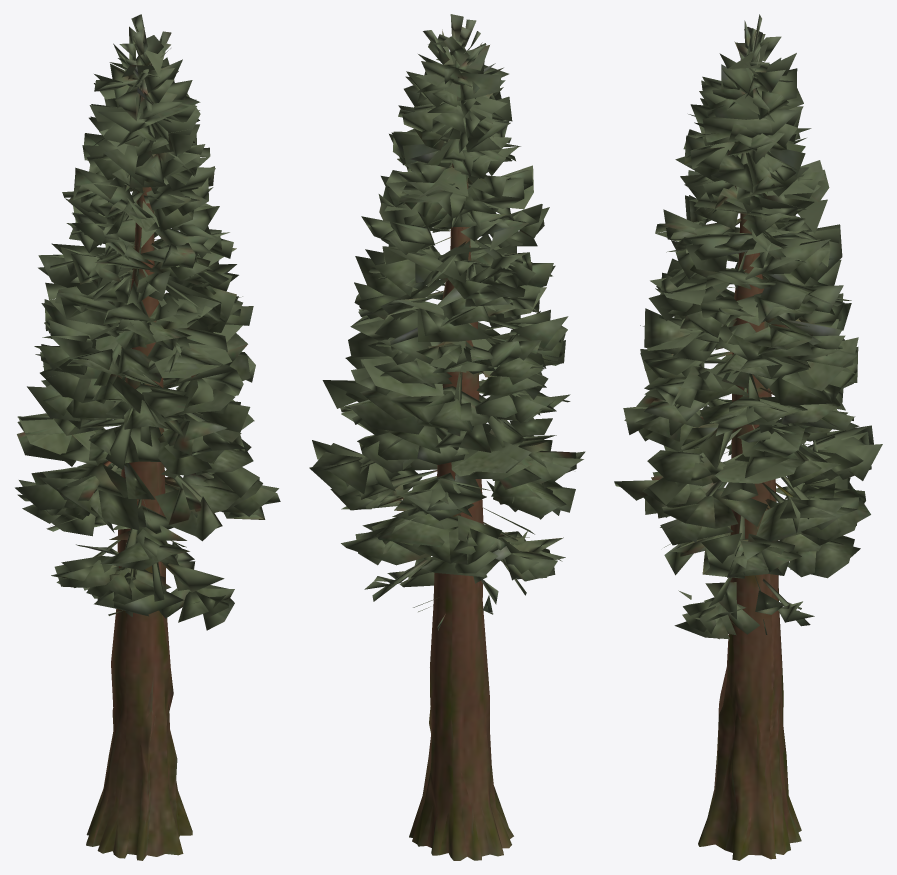
The model's file is Meshy_AI_redwood_tree_1025061650_texture.glb.
3 views of the same model, side by side, from view 1: azimuth 30°, elevation 25°; view 2: azimuth 150°, elevation 25°; view 3: azimuth 270°, elevation 25° (orthographic).
Size of the model in its own units: 0.2852 by 0.9512 by 0.2817.
Materials: 1 (1 with a texture image).
